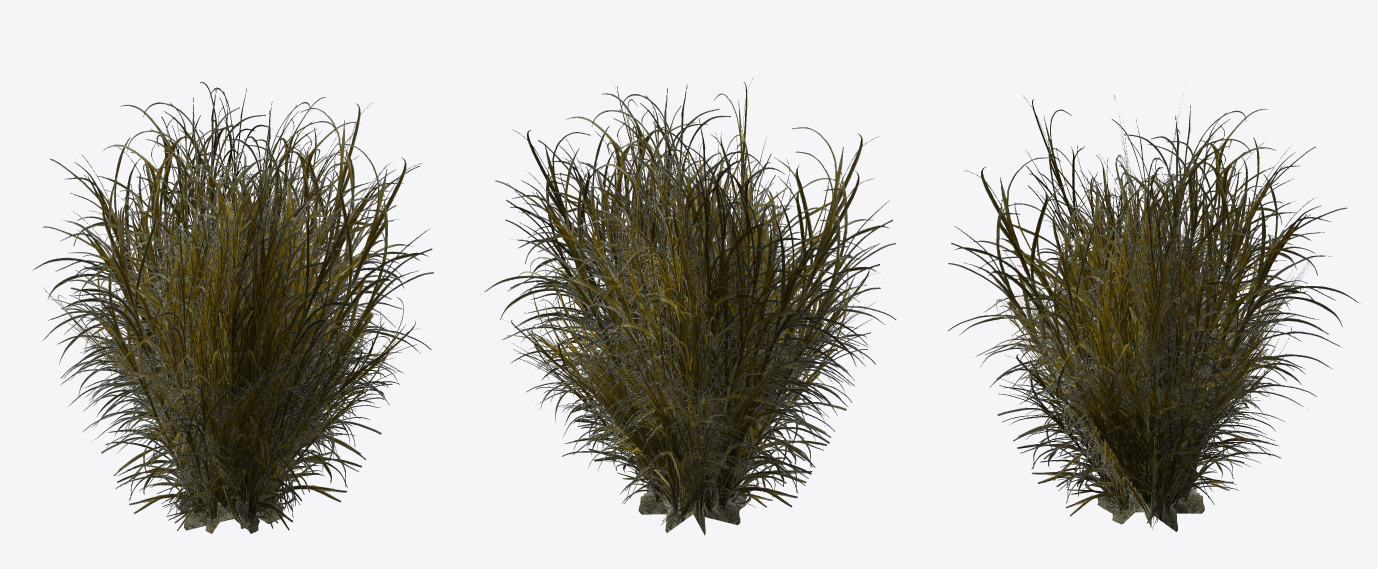
Rendered from grass1.fbx.
3 views of the same model, side by side, from view 1: azimuth 30°, elevation 25°; view 2: azimuth 150°, elevation 25°; view 3: azimuth 270°, elevation 25° (orthographic).
Visible parts, largest first — view 1: Plane; view 2: Plane; view 3: Plane.
Boxes of the visible parts, x1,y1,x2,y2 form: Plane: (32, 82, 433, 533); Plane: (482, 77, 896, 535); Plane: (948, 95, 1360, 531).
Bounding box in the file's own units: 1.83 × 2 × 1.82.
